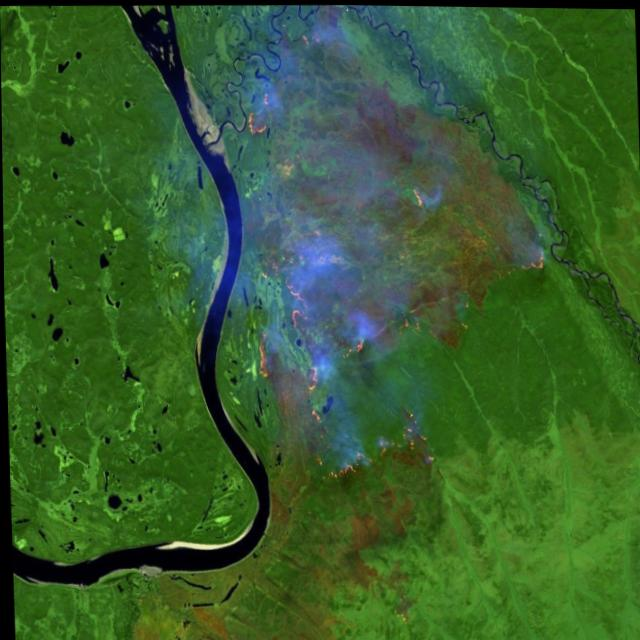fire: (239, 60, 554, 497)
